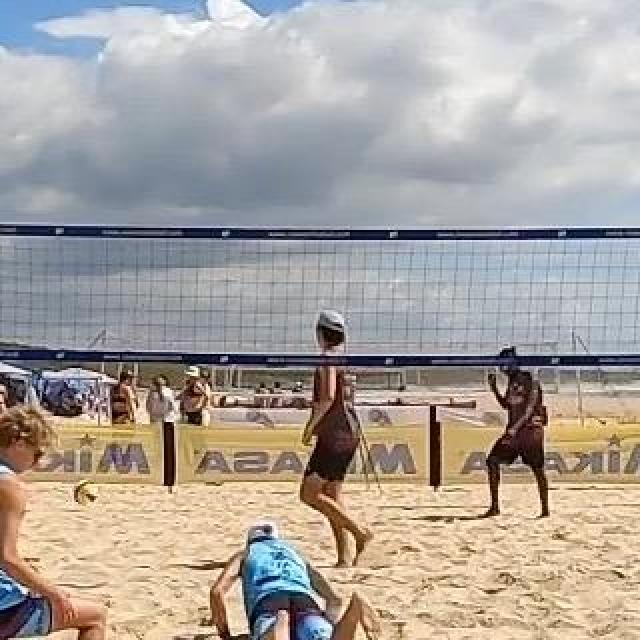volleyball: (74, 481, 98, 505)
